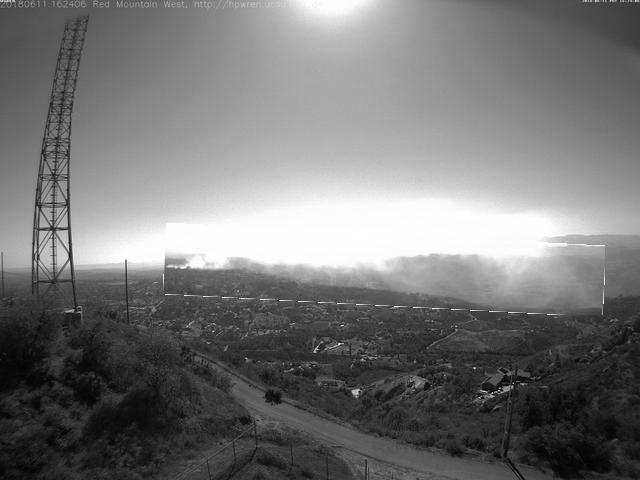smoke: (165, 230, 607, 312)
